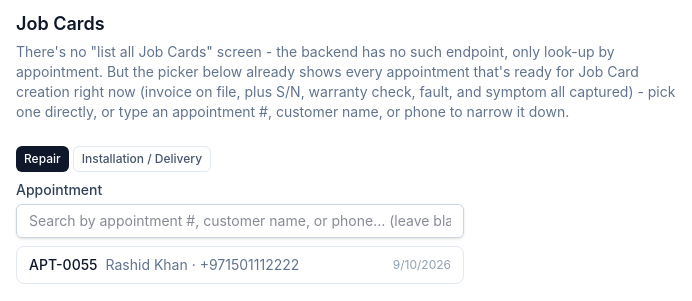
JobCardsPage - eligible-appointment picker (2026-09-17) › shows a query-specific no-matches message when a typed search comes back empty
expect the text "APT-0055" is shown: met, box [29,256,98,273]
Replace the text in the field with test id "eligible-appointment-search-input" with "zzz-no-such-thing". click: (240, 221)
box: [16,204,464,238]
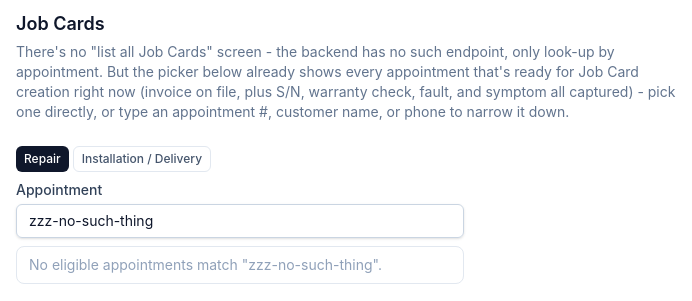
expect the text "No eligible appointments match \"zzz-no-such-thing\"." is shown: met, box [29,256,382,273]
